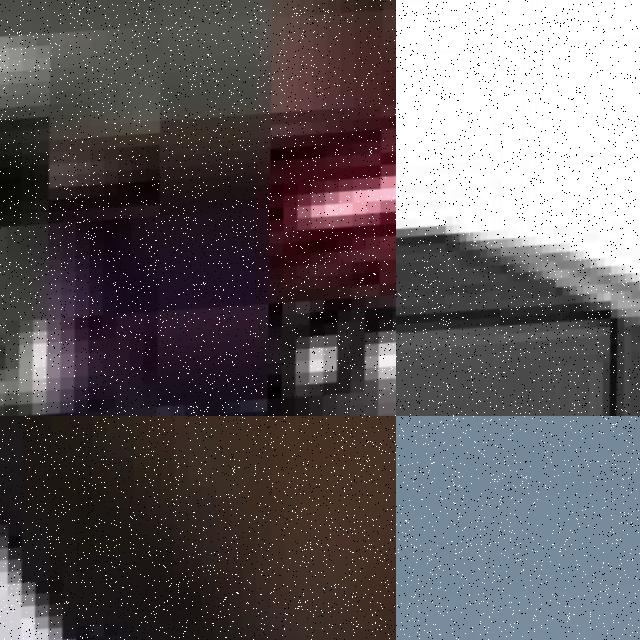drone: (0, 0, 396, 416), (396, 0, 640, 416), (0, 416, 396, 640)
